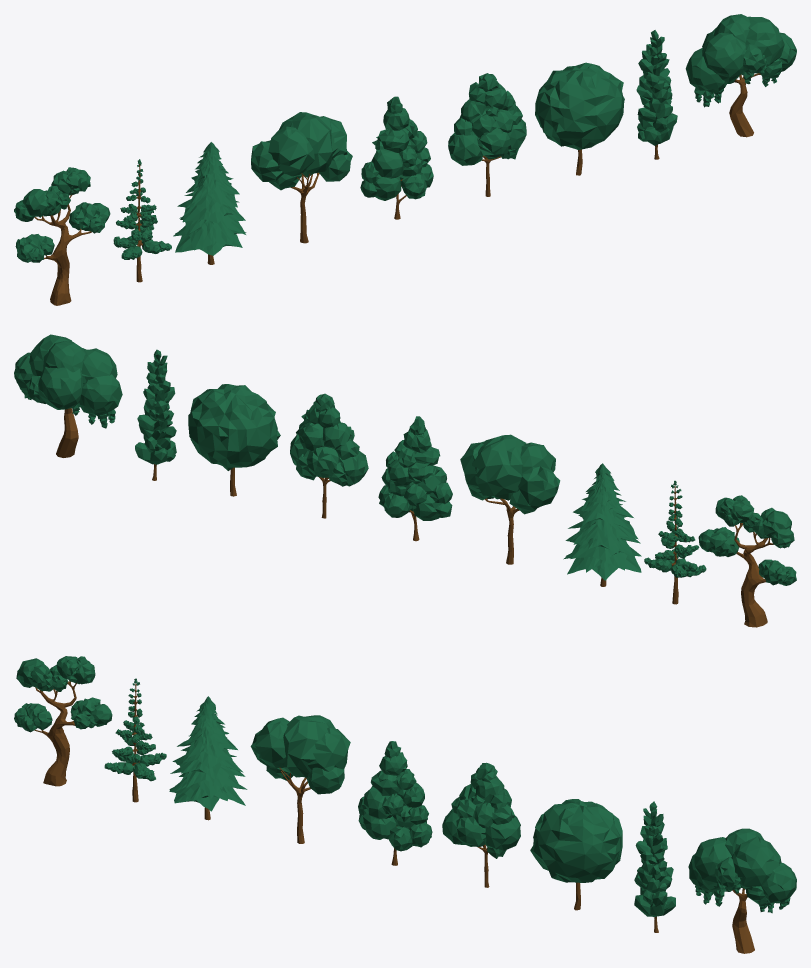
File: pls.fbx
3 renders of one model, top to bottom at view 1: azimuth 30°, elevation 25°; view 2: azimuth 150°, elevation 25°; view 3: azimuth 330°, elevation 25°, orthographic.
Parts seen in each view (by area): view 1: Tree_09.001, Tree_07.001, Tree_04.001, Tree_01.001, Tree_06.001, Tree_05.001, Tree_03.001, Tree_08.001, Tree_02.001; view 2: Tree_09.001, Tree_07.001, Tree_04.001, Tree_01.001, Tree_05.001, Tree_03.001, Tree_06.001, Tree_08.001, Tree_02.001; view 3: Tree_09.001, Tree_07.001, Tree_04.001, Tree_01.001, Tree_05.001, Tree_03.001, Tree_06.001, Tree_08.001, Tree_02.001.
Part boxes in pixels (<box>): Tree_09.001: <box>685,14,796,137</box>; Tree_07.001: <box>535,62,624,175</box>; Tree_04.001: <box>251,112,352,243</box>; Tree_01.001: <box>14,167,110,305</box>; Tree_06.001: <box>448,73,526,196</box>; Tree_05.001: <box>360,96,433,219</box>; Tree_03.001: <box>173,142,246,264</box>; Tree_08.001: <box>636,30,677,159</box>; Tree_02.001: <box>113,159,171,282</box>; Tree_09.001: <box>14,334,122,457</box>; Tree_07.001: <box>188,384,280,496</box>; Tree_04.001: <box>460,434,560,564</box>; Tree_01.001: <box>698,495,796,627</box>; Tree_05.001: <box>378,416,452,541</box>; Tree_03.001: <box>563,463,641,586</box>; Tree_06.001: <box>290,393,368,518</box>; Tree_08.001: <box>135,349,176,480</box>; Tree_02.001: <box>644,480,706,604</box>; Tree_09.001: <box>688,828,796,953</box>; Tree_07.001: <box>530,799,622,910</box>; Tree_04.001: <box>250,715,350,843</box>; Tree_01.001: <box>14,656,112,786</box>; Tree_05.001: <box>358,741,432,865</box>; Tree_03.001: <box>169,696,247,820</box>; Tree_06.001: <box>442,762,520,887</box>; Tree_08.001: <box>634,801,675,932</box>; Tree_02.001: <box>104,678,166,802</box>.
Size of the model in its own units: 931 by 149 by 91.31.
